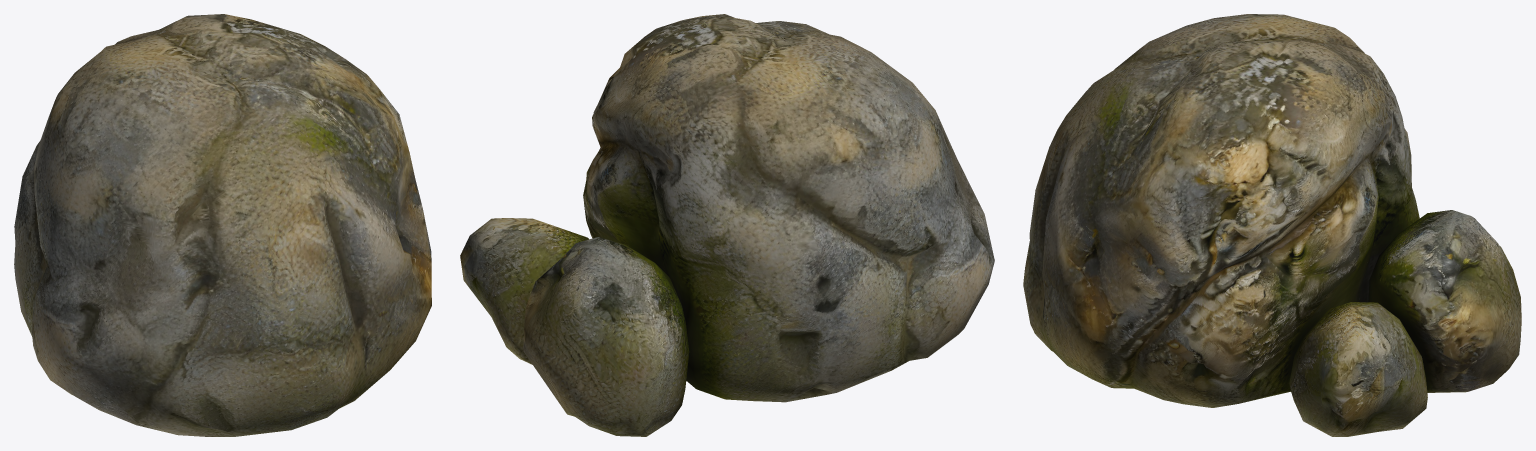
The model's file is rock_a.glb.
3 views of the same model, side by side, from view 1: azimuth 30°, elevation 25°; view 2: azimuth 150°, elevation 25°; view 3: azimuth 270°, elevation 25° (orthographic).
Visible parts, largest first — view 1: tripo_node_e24eba23-52b3-49a6-add2-58872c6a5679; view 2: tripo_node_e24eba23-52b3-49a6-add2-58872c6a5679; view 3: tripo_node_e24eba23-52b3-49a6-add2-58872c6a5679.
Part boxes in pixels (left/top/right/bottom): tripo_node_e24eba23-52b3-49a6-add2-58872c6a5679: left=14, top=14, right=431, bottom=436; tripo_node_e24eba23-52b3-49a6-add2-58872c6a5679: left=460, top=14, right=994, bottom=436; tripo_node_e24eba23-52b3-49a6-add2-58872c6a5679: left=1023, top=14, right=1521, bottom=436.
Size of the model in its own units: 0.9988 by 0.7027 by 0.9924.
Materials: 1 (1 with a texture image).
